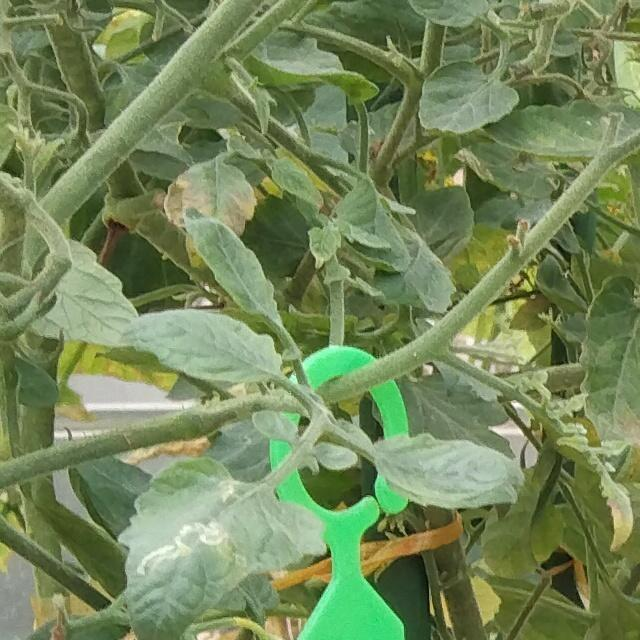Healthy: (113, 304, 287, 388), (362, 433, 529, 514), (419, 59, 521, 137)
Leaf_Miner: (118, 455, 328, 640)
